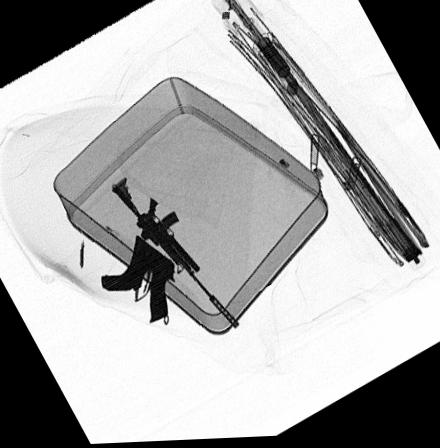Gun: (108, 177, 241, 332)
